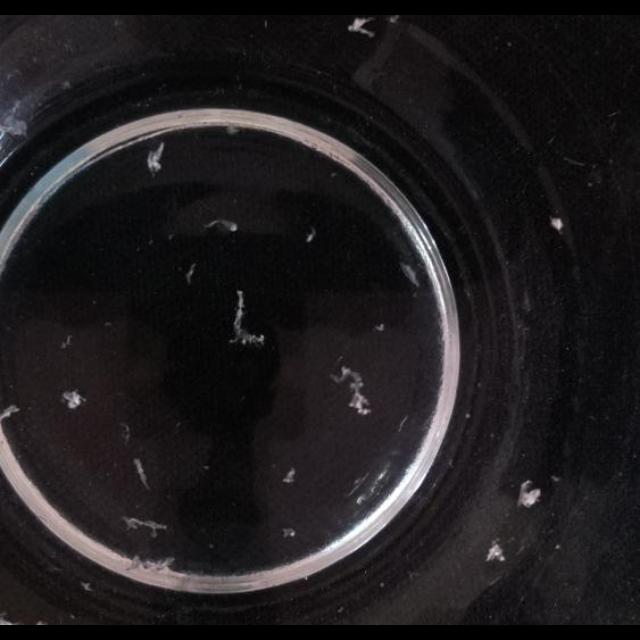Fibre: (228, 288, 266, 346), (330, 363, 372, 415), (123, 515, 169, 537), (146, 142, 166, 176), (517, 480, 541, 508), (348, 17, 378, 37), (204, 218, 236, 234), (134, 458, 150, 490), (62, 389, 86, 409), (399, 263, 419, 287), (486, 542, 506, 564), (0, 404, 20, 424), (184, 263, 196, 285), (282, 468, 296, 484), (59, 334, 72, 350), (306, 226, 316, 242), (282, 528, 296, 538), (225, 125, 239, 135), (80, 582, 94, 592)
microbeads: (550, 216, 562, 232), (208, 542, 214, 550), (554, 544, 560, 550), (465, 412, 471, 418)
